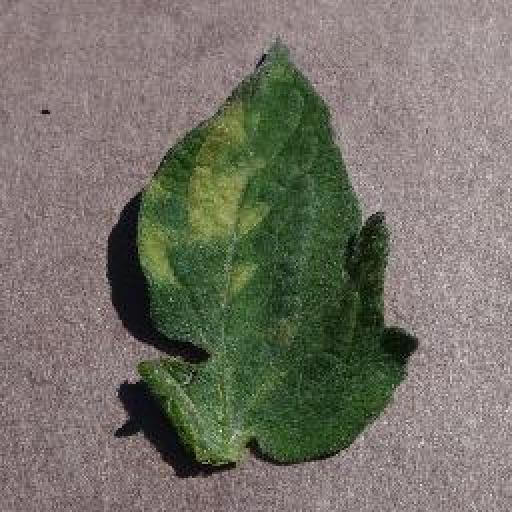disease_tomato: (139, 31, 422, 464)
